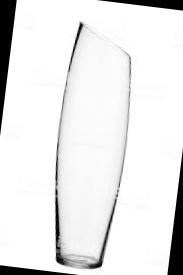glass: (30, 20, 148, 269)
